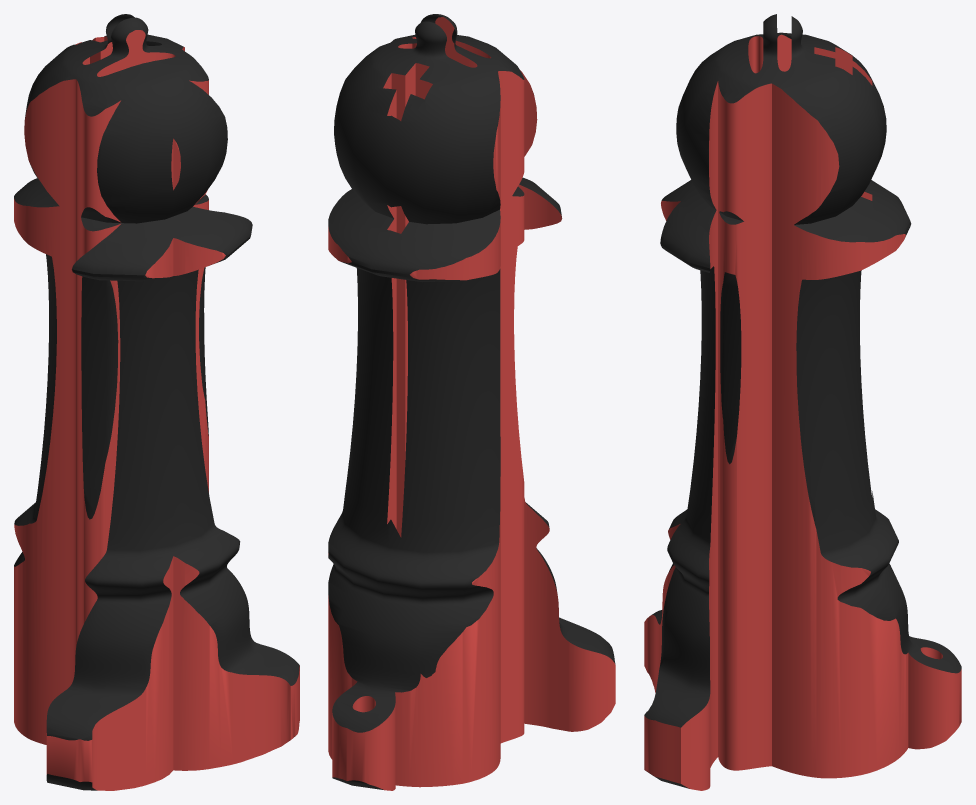
File: Black_Bishop.fbx
The picture shows the model from 3 angles, left to right: view 1: azimuth 30°, elevation 25°; view 2: azimuth 150°, elevation 25°; view 3: azimuth 270°, elevation 25°; orthographic projection.
Visible parts, largest first — view 1: Black_Bishop; view 2: Black_Bishop; view 3: Black_Bishop.
Boxes of the visible parts, x1,y1,x2,y2 form: Black_Bishop: (14,14,299,790); Black_Bishop: (328,14,615,790); Black_Bishop: (644,14,961,790).
Bounding box in the file's own units: 43.95 × 47.21 × 119.
